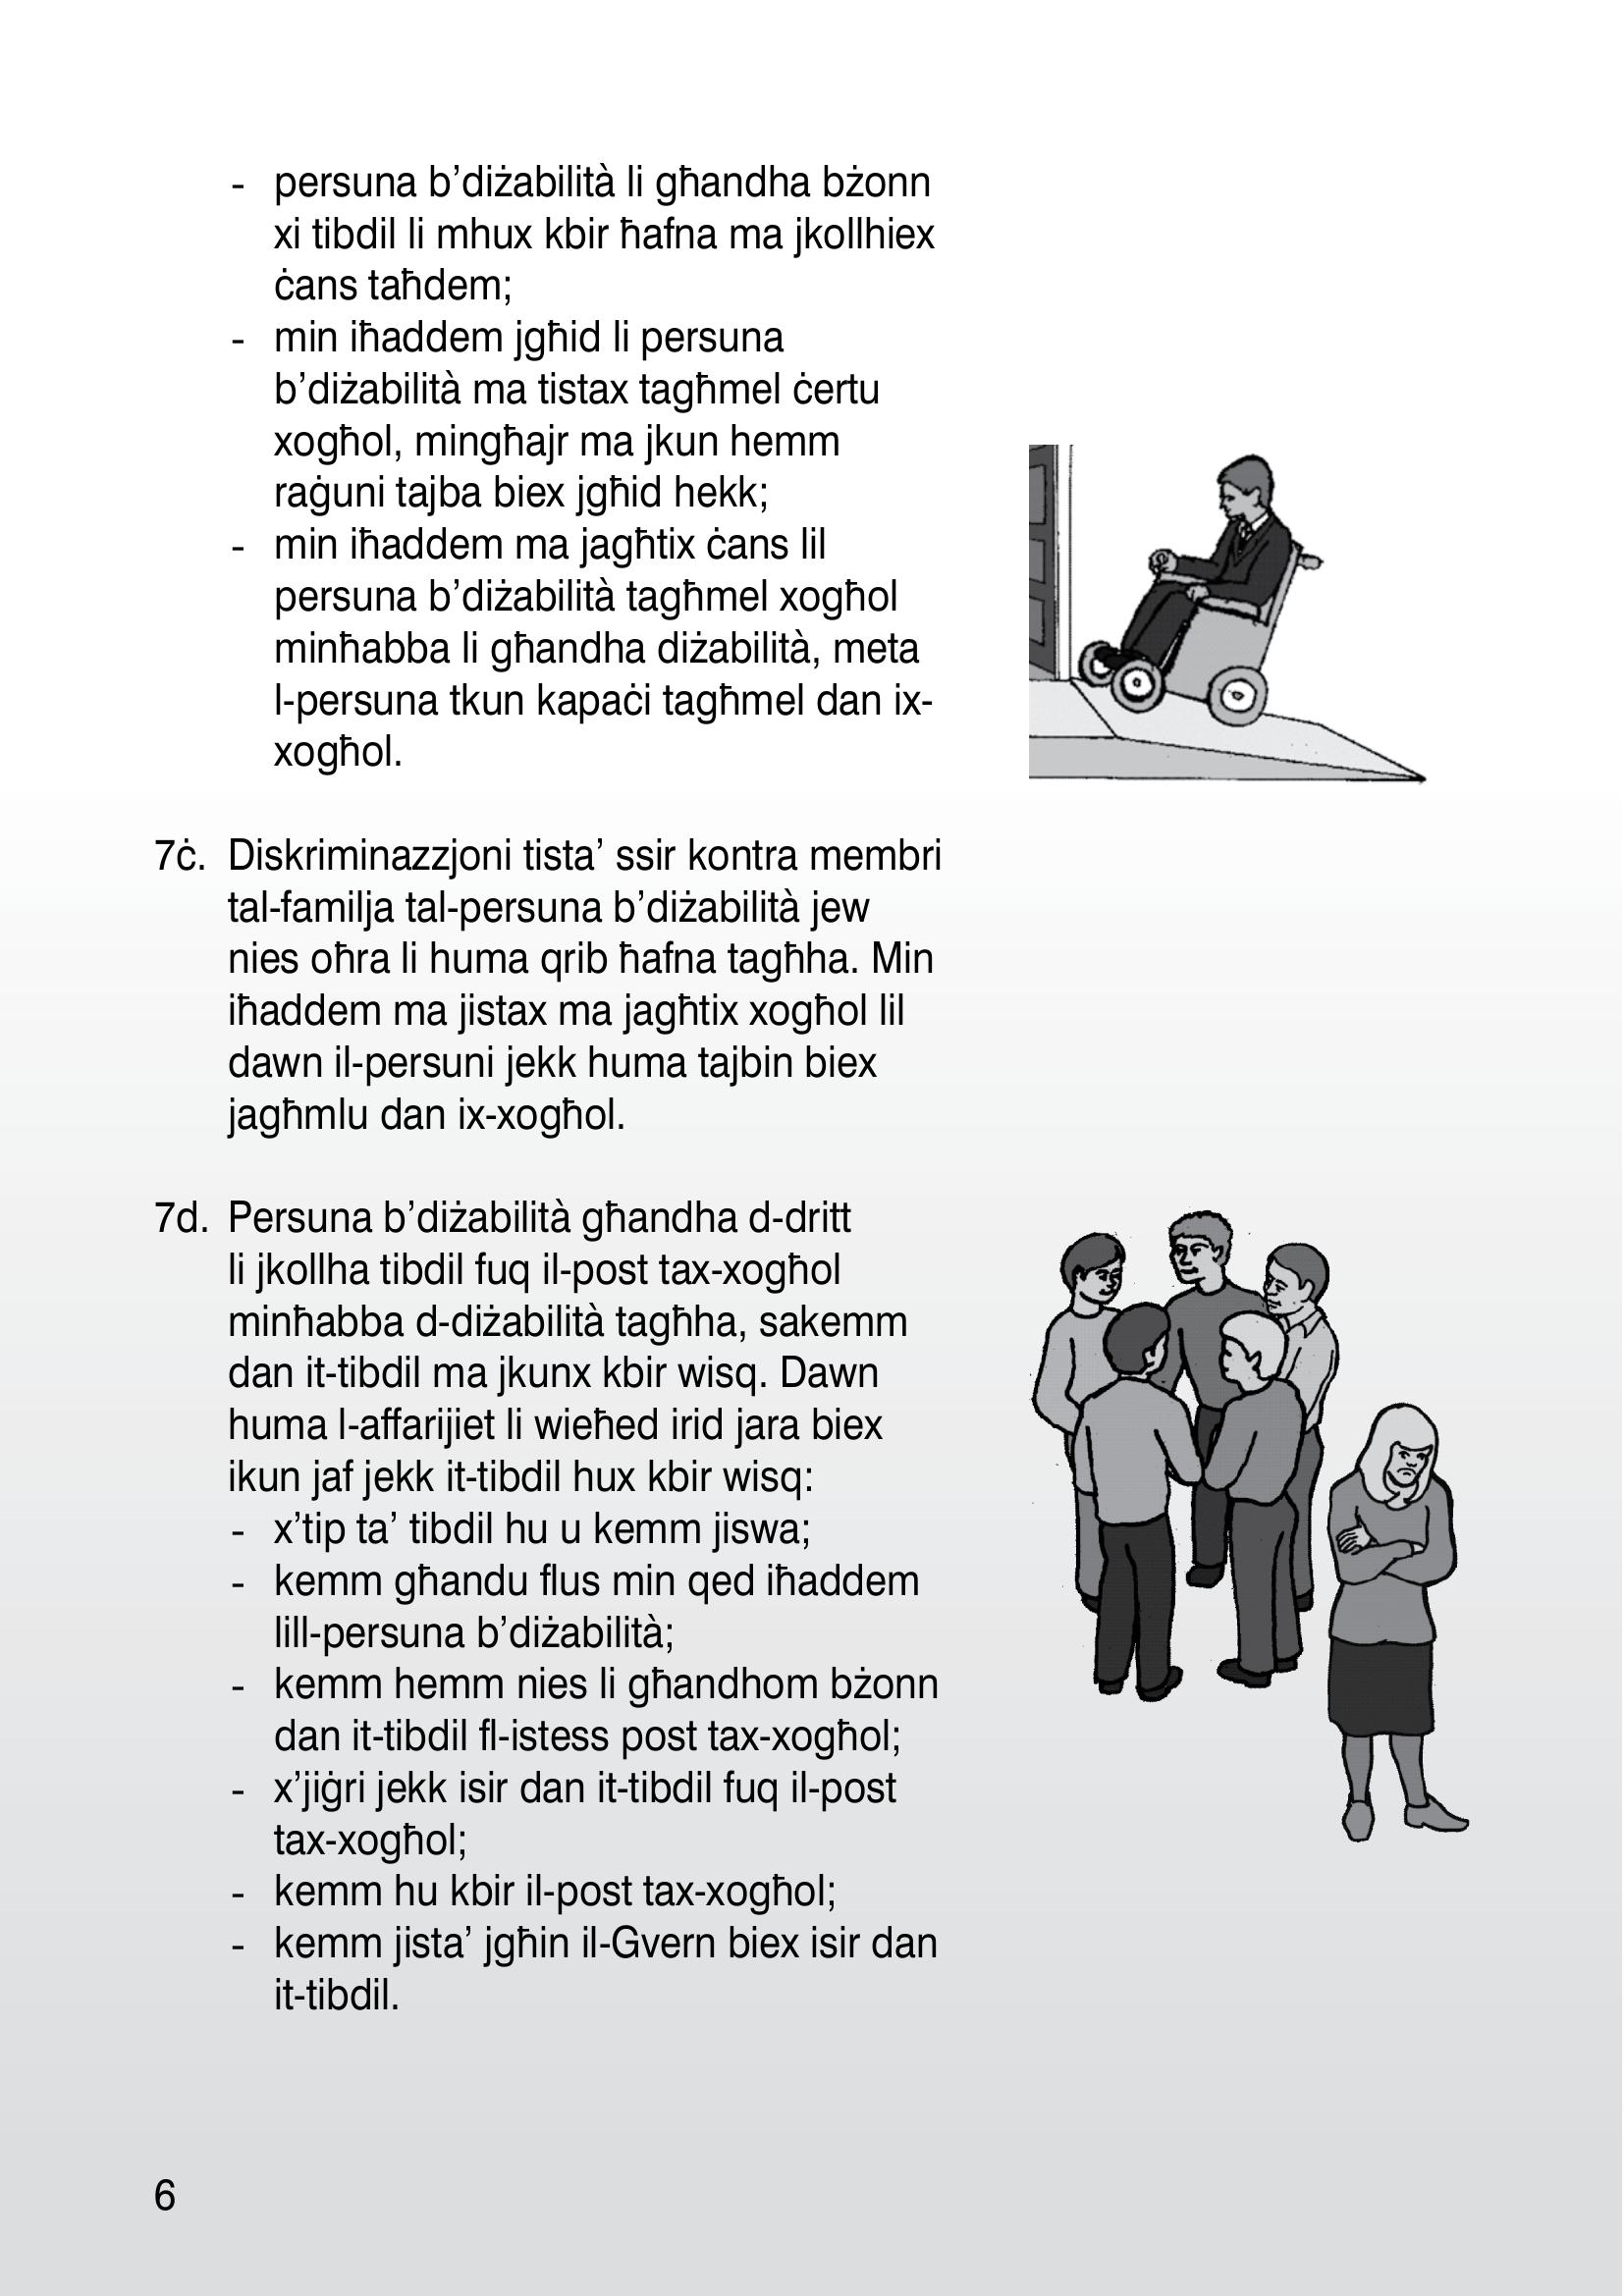text: (130, 132, 975, 2047)
